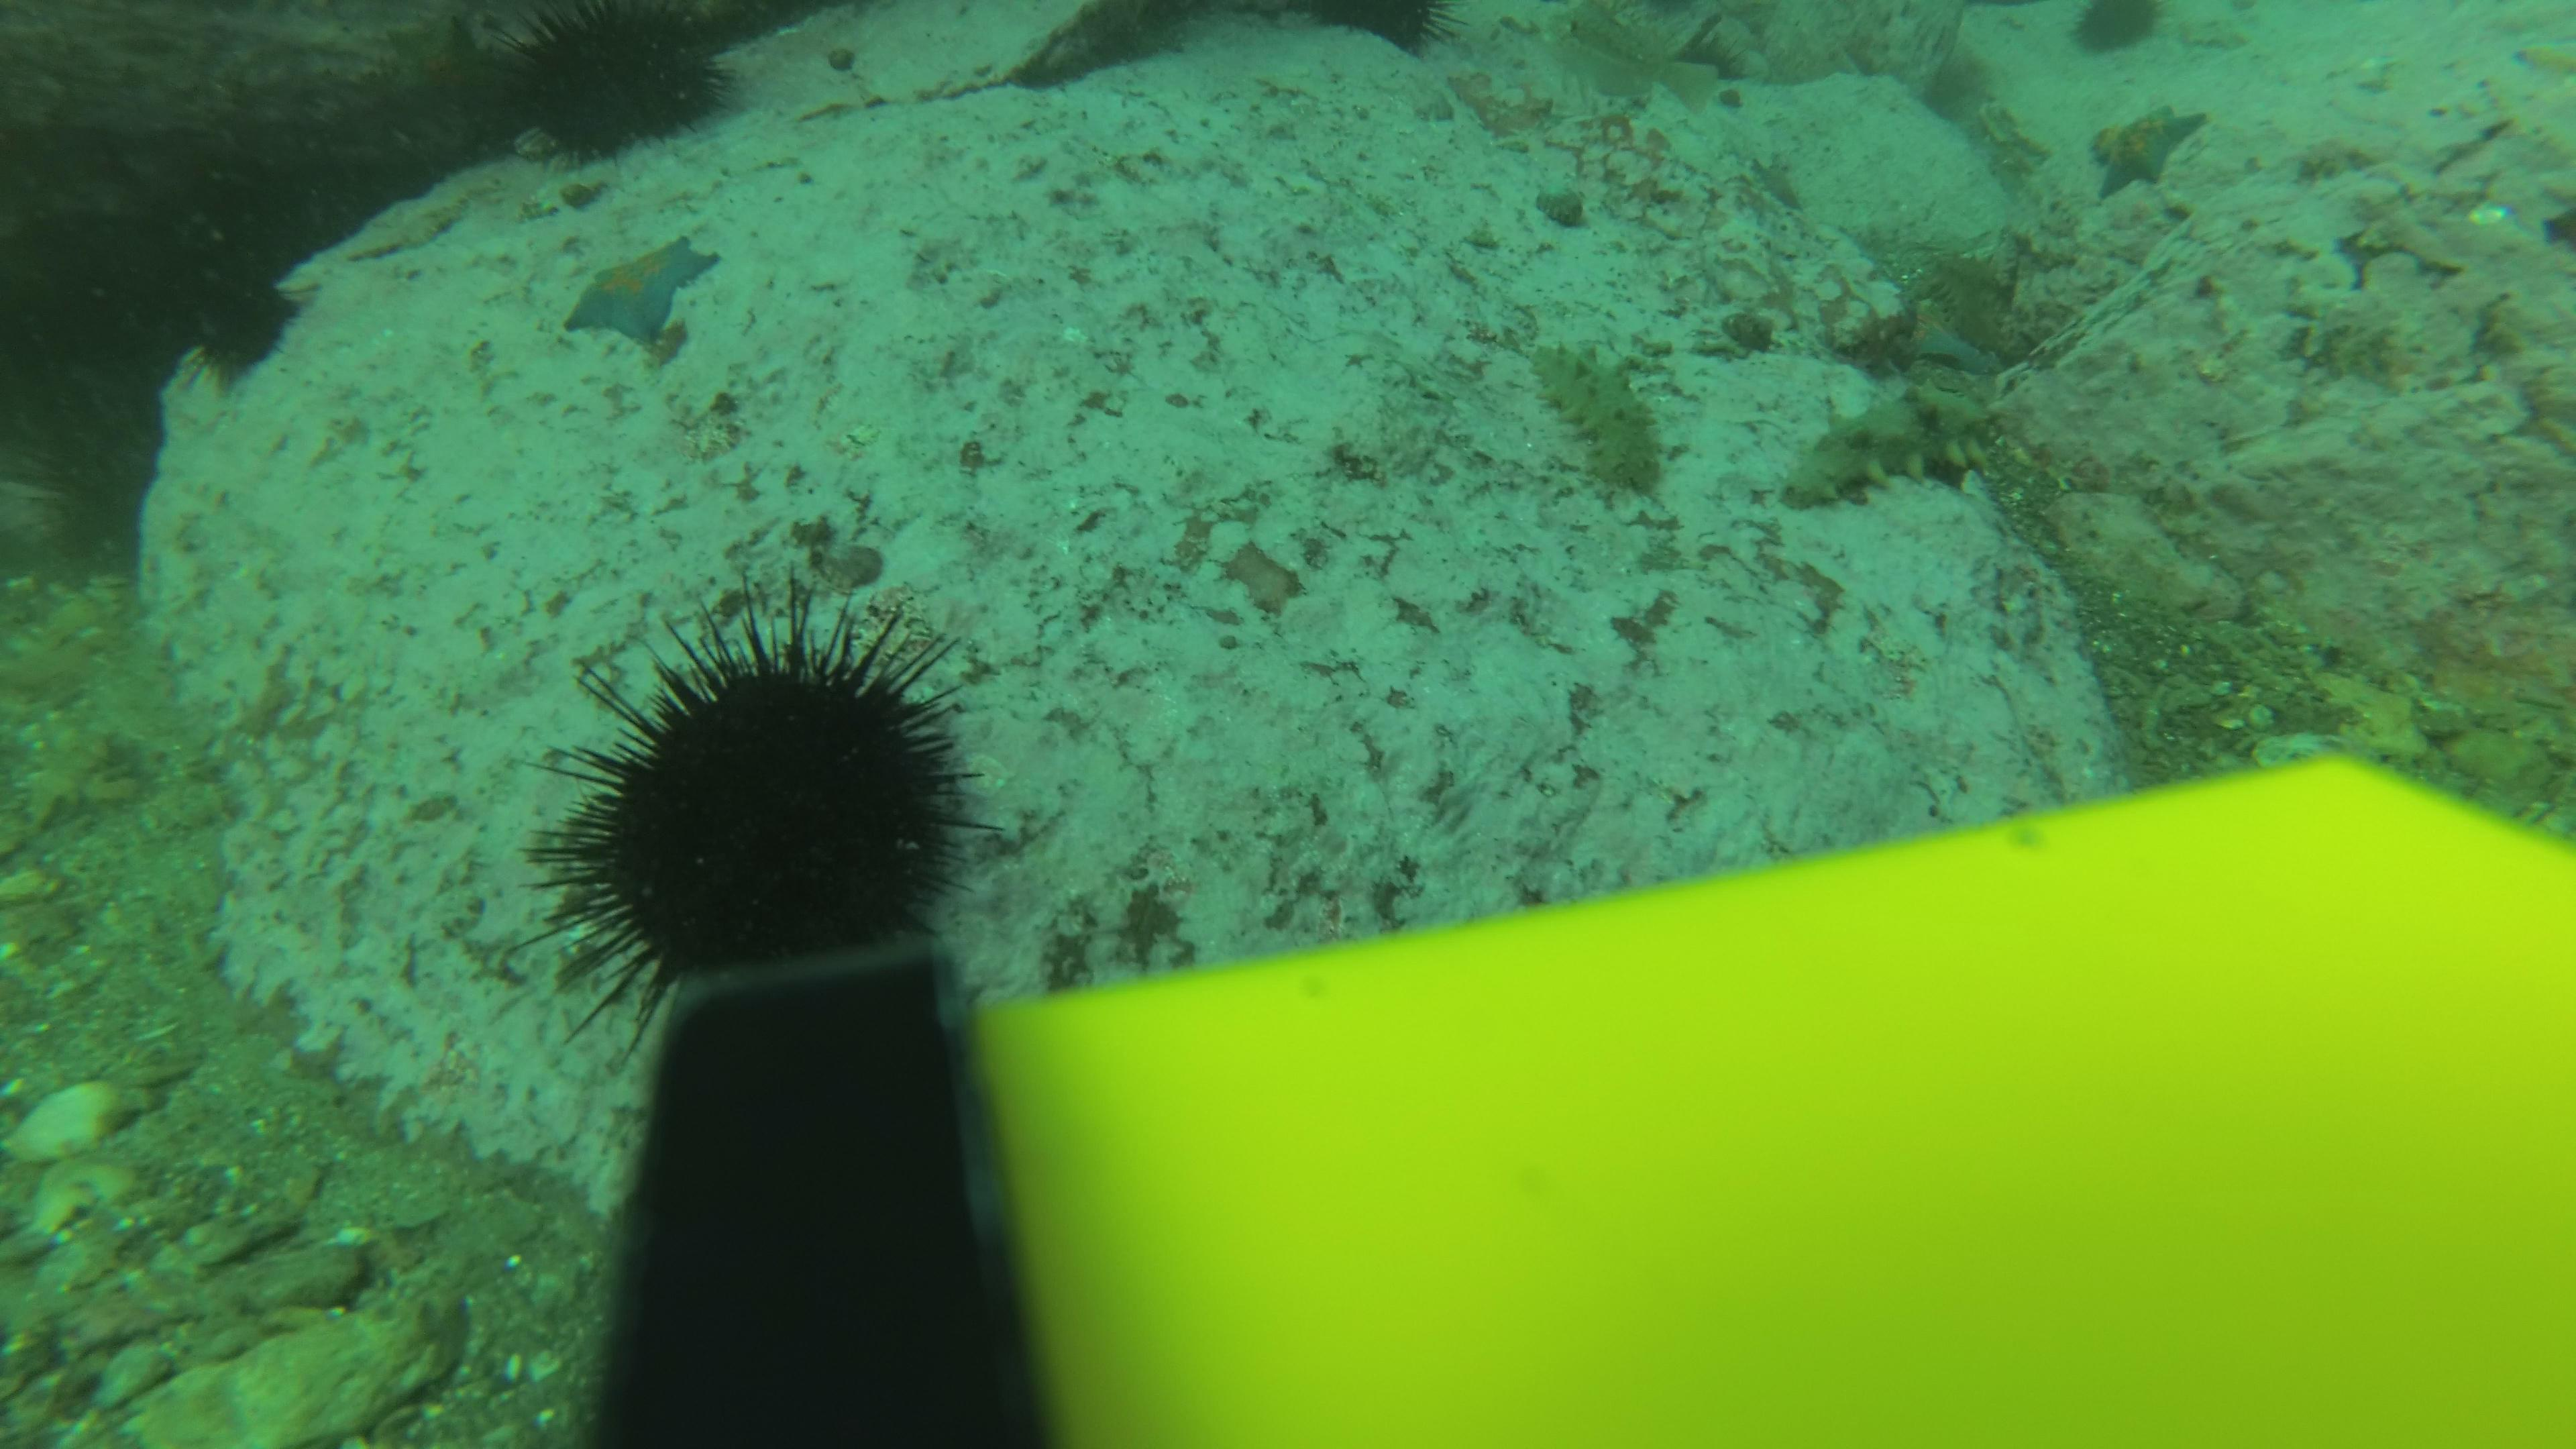urchin: (510, 580, 1001, 973), (518, 0, 695, 138), (191, 274, 297, 377), (1332, 0, 1430, 64), (2091, 0, 2173, 55)
